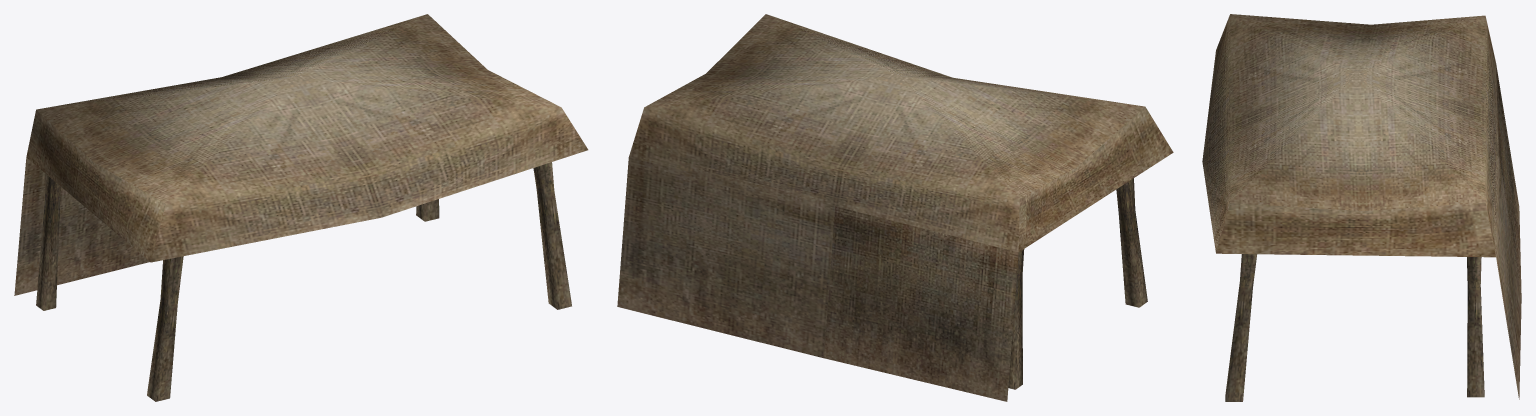
Rendered from desert_tent01.fbx.
The picture shows the model from 3 angles, left to right: view 1: azimuth 30°, elevation 25°; view 2: azimuth 150°, elevation 25°; view 3: azimuth 270°, elevation 25°; orthographic projection. The views are drawn at different scales.
Parts seen in each view (by area): view 1: desert_tent01; view 2: desert_tent01; view 3: desert_tent01.
Boxes of the visible parts, box(x1,y1,x2,y2) form: desert_tent01: box(14, 14, 588, 401); desert_tent01: box(617, 14, 1173, 401); desert_tent01: box(1202, 14, 1521, 401).
Bounding box in the file's own units: 6.9 × 3.47 × 4.45.
